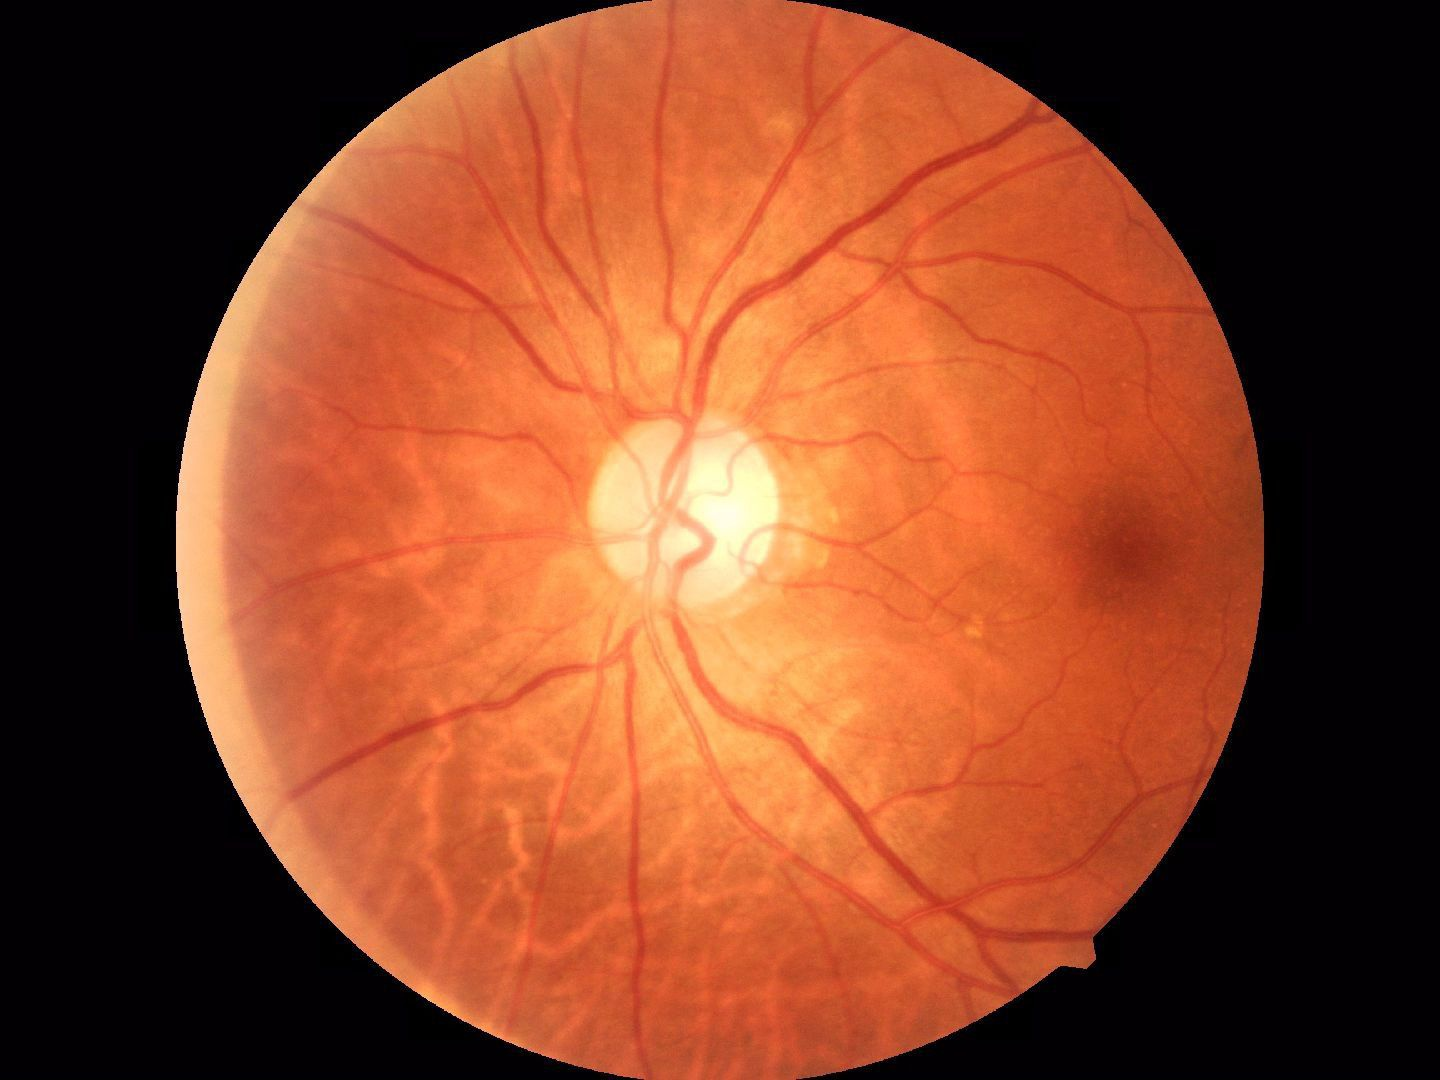Hemorrhages: (1051, 472, 1195, 613)
Optic-Disc: (575, 398, 791, 597)
Venules: (650, 666, 886, 866), (722, 192, 916, 381)
